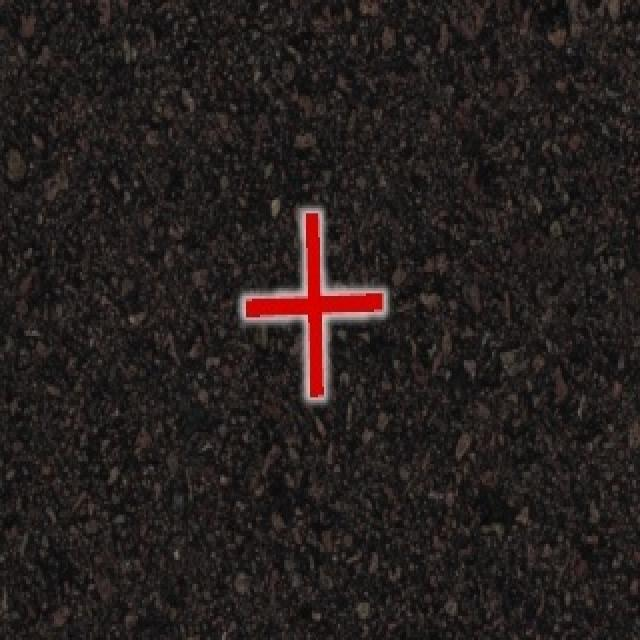x_marker: (243, 212, 383, 396)
